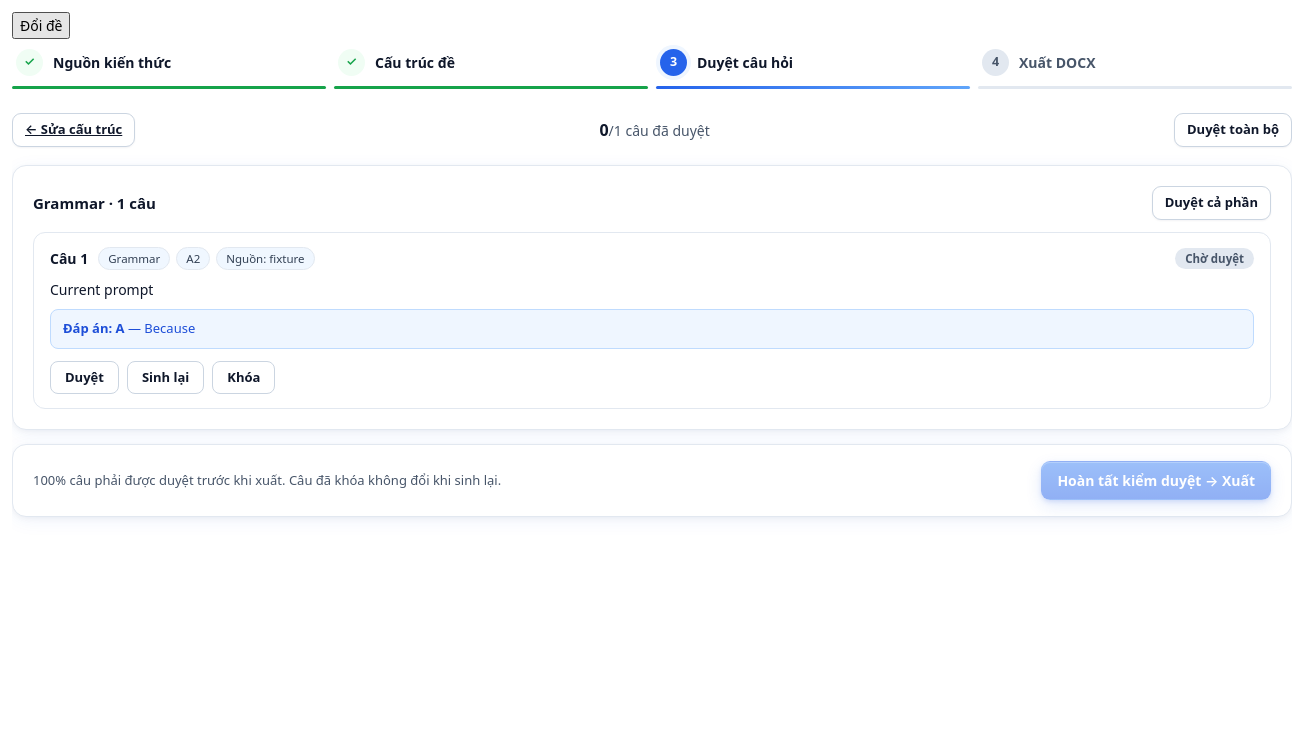
ExamReviewPage route isolation › keeps current questions and shows a reload error after mutation
Click the button "Duyệt".
click(84, 378)  # box [50,361,119,394]
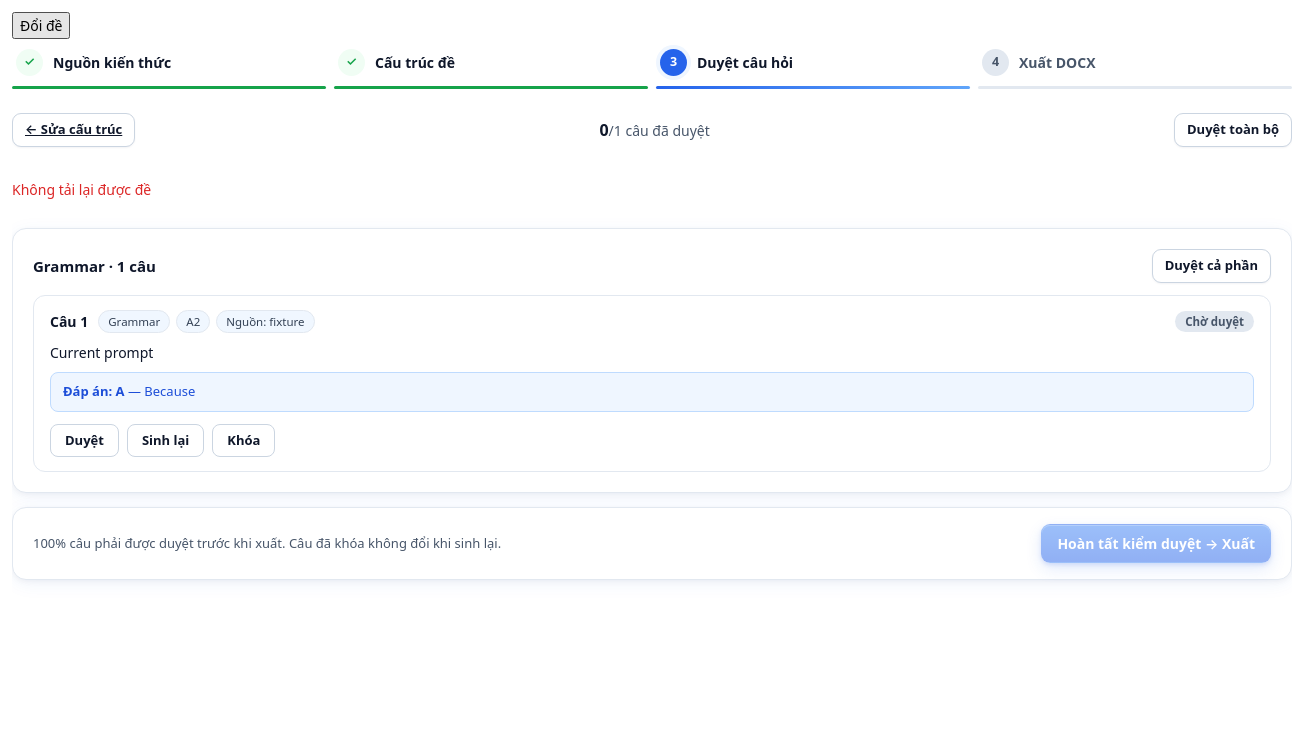
Expected: the text "Current prompt" is shown, [50,343,153,362]
Result: the text "Không tải lại được đề" is shown at [12,180,151,199]
